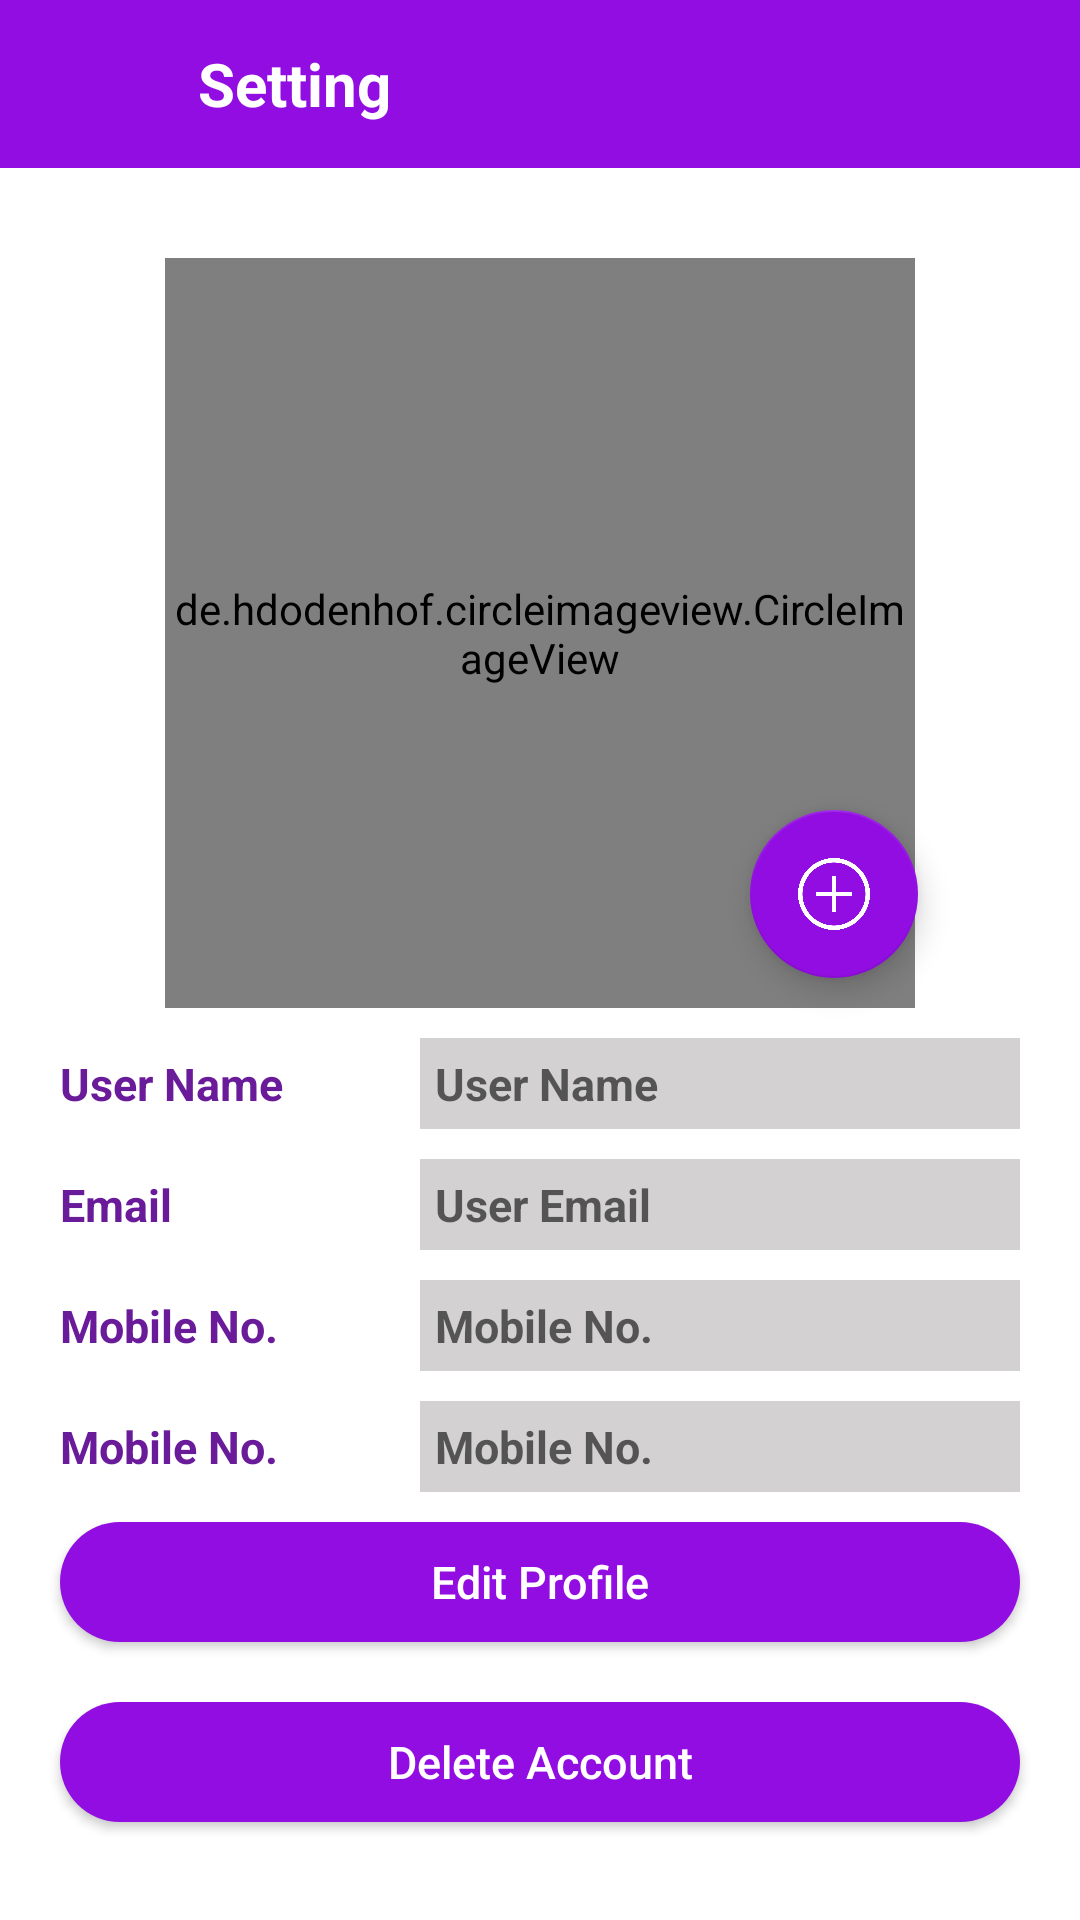

Where to tap for icons on this 1080px×1920px app screen, as point (x, y):
add: point (834, 894)
